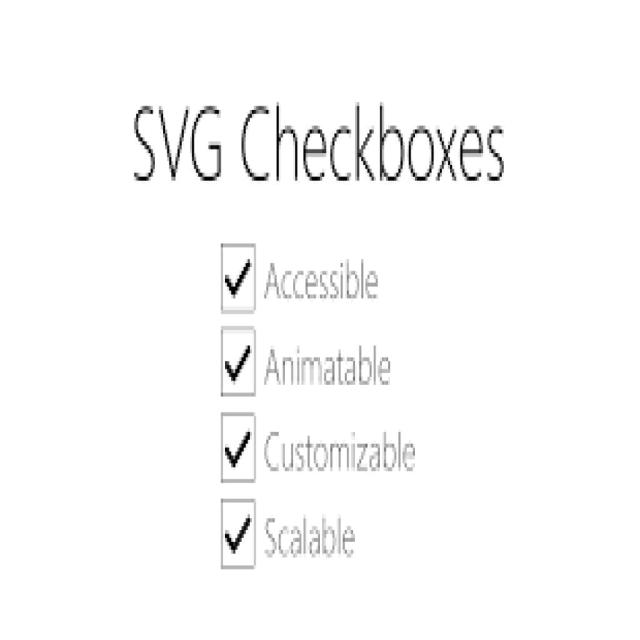checkbox: (220, 500, 257, 568), (222, 325, 256, 397), (220, 414, 256, 481), (221, 245, 256, 312)
label: (110, 93, 510, 195)
